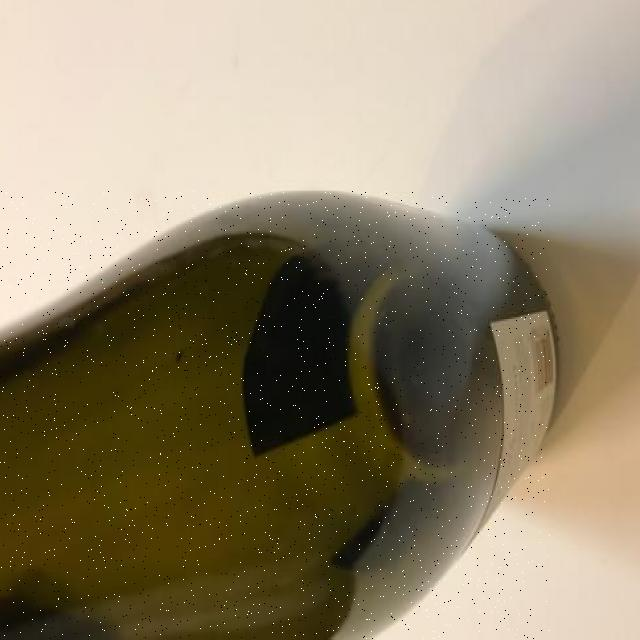glass: (0, 191, 550, 639)
